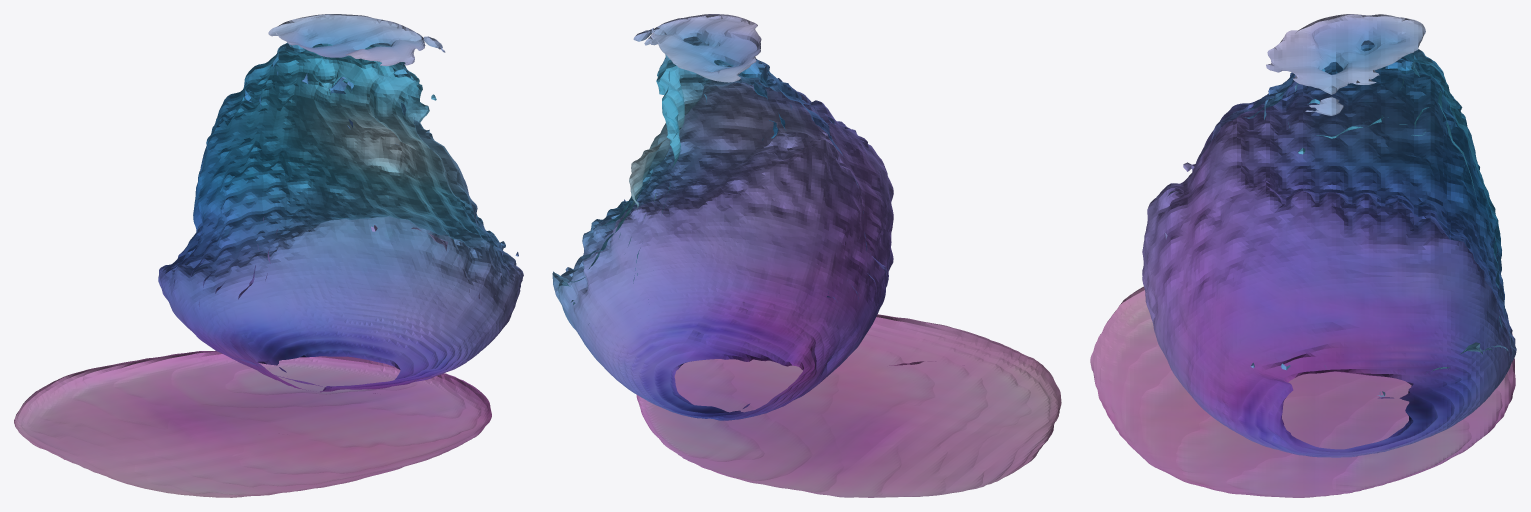
3 views of the same model, side by side, from view 1: azimuth 30°, elevation 25°; view 2: azimuth 150°, elevation 25°; view 3: azimuth 270°, elevation 25° (orthographic). The views are drawn at different scales.
Parts seen in each view (by area): view 1: geometry_0; view 2: geometry_0; view 3: geometry_0.
Part boxes in pixels (x1=…): geometry_0: x1=14, y1=14, x2=523, y2=497; geometry_0: x1=552, y1=14, x2=1061, y2=497; geometry_0: x1=1090, y1=14, x2=1516, y2=497.
Size of the model in its own units: 1.6 by 1.26 by 1.13.
